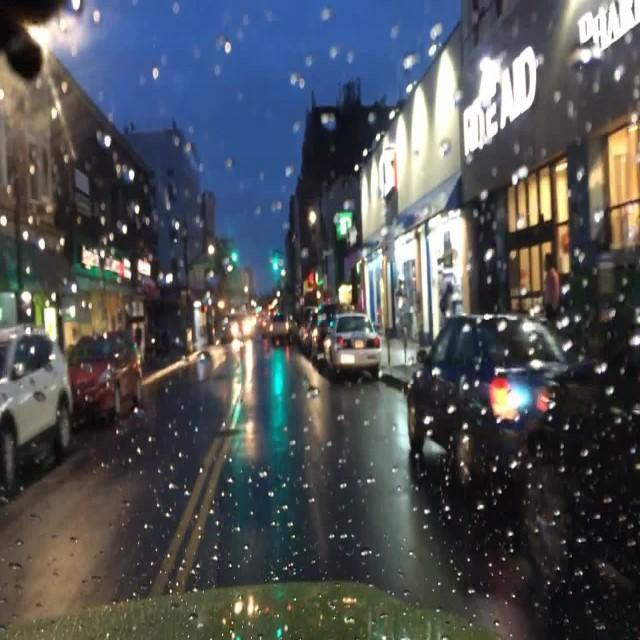normal: (386, 297, 604, 527), (0, 334, 75, 499), (65, 333, 140, 426), (322, 315, 381, 381)
